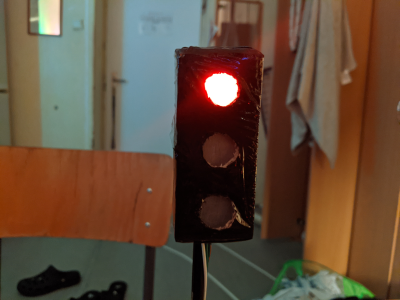trafficlight_red: (177, 50, 253, 243)
